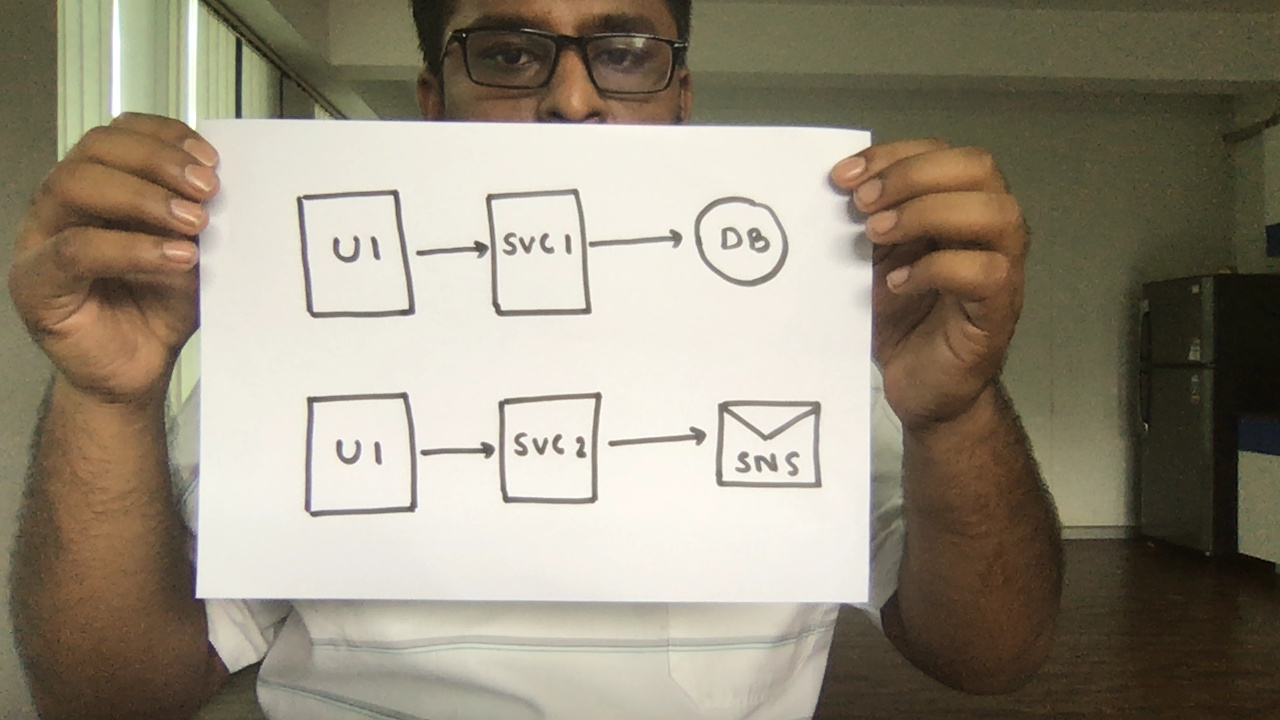arrow: (606, 416, 714, 468), (588, 221, 689, 265), (417, 430, 501, 475), (415, 230, 492, 276)
db: (688, 192, 794, 291)
ec2: (480, 184, 597, 322), (494, 385, 607, 511)
sns: (709, 393, 828, 498)
ui: (293, 187, 423, 324), (295, 387, 425, 524)
